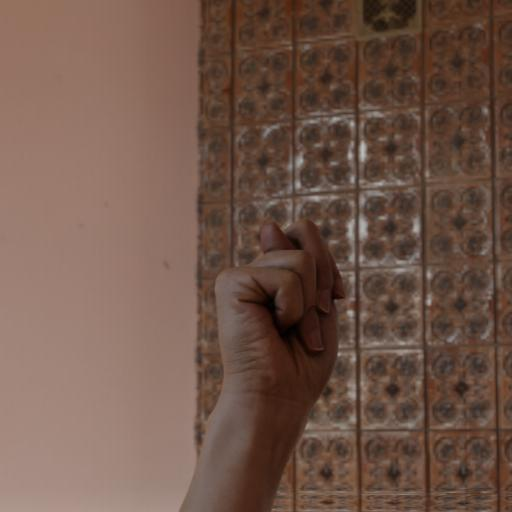N: (200, 210, 361, 484)
